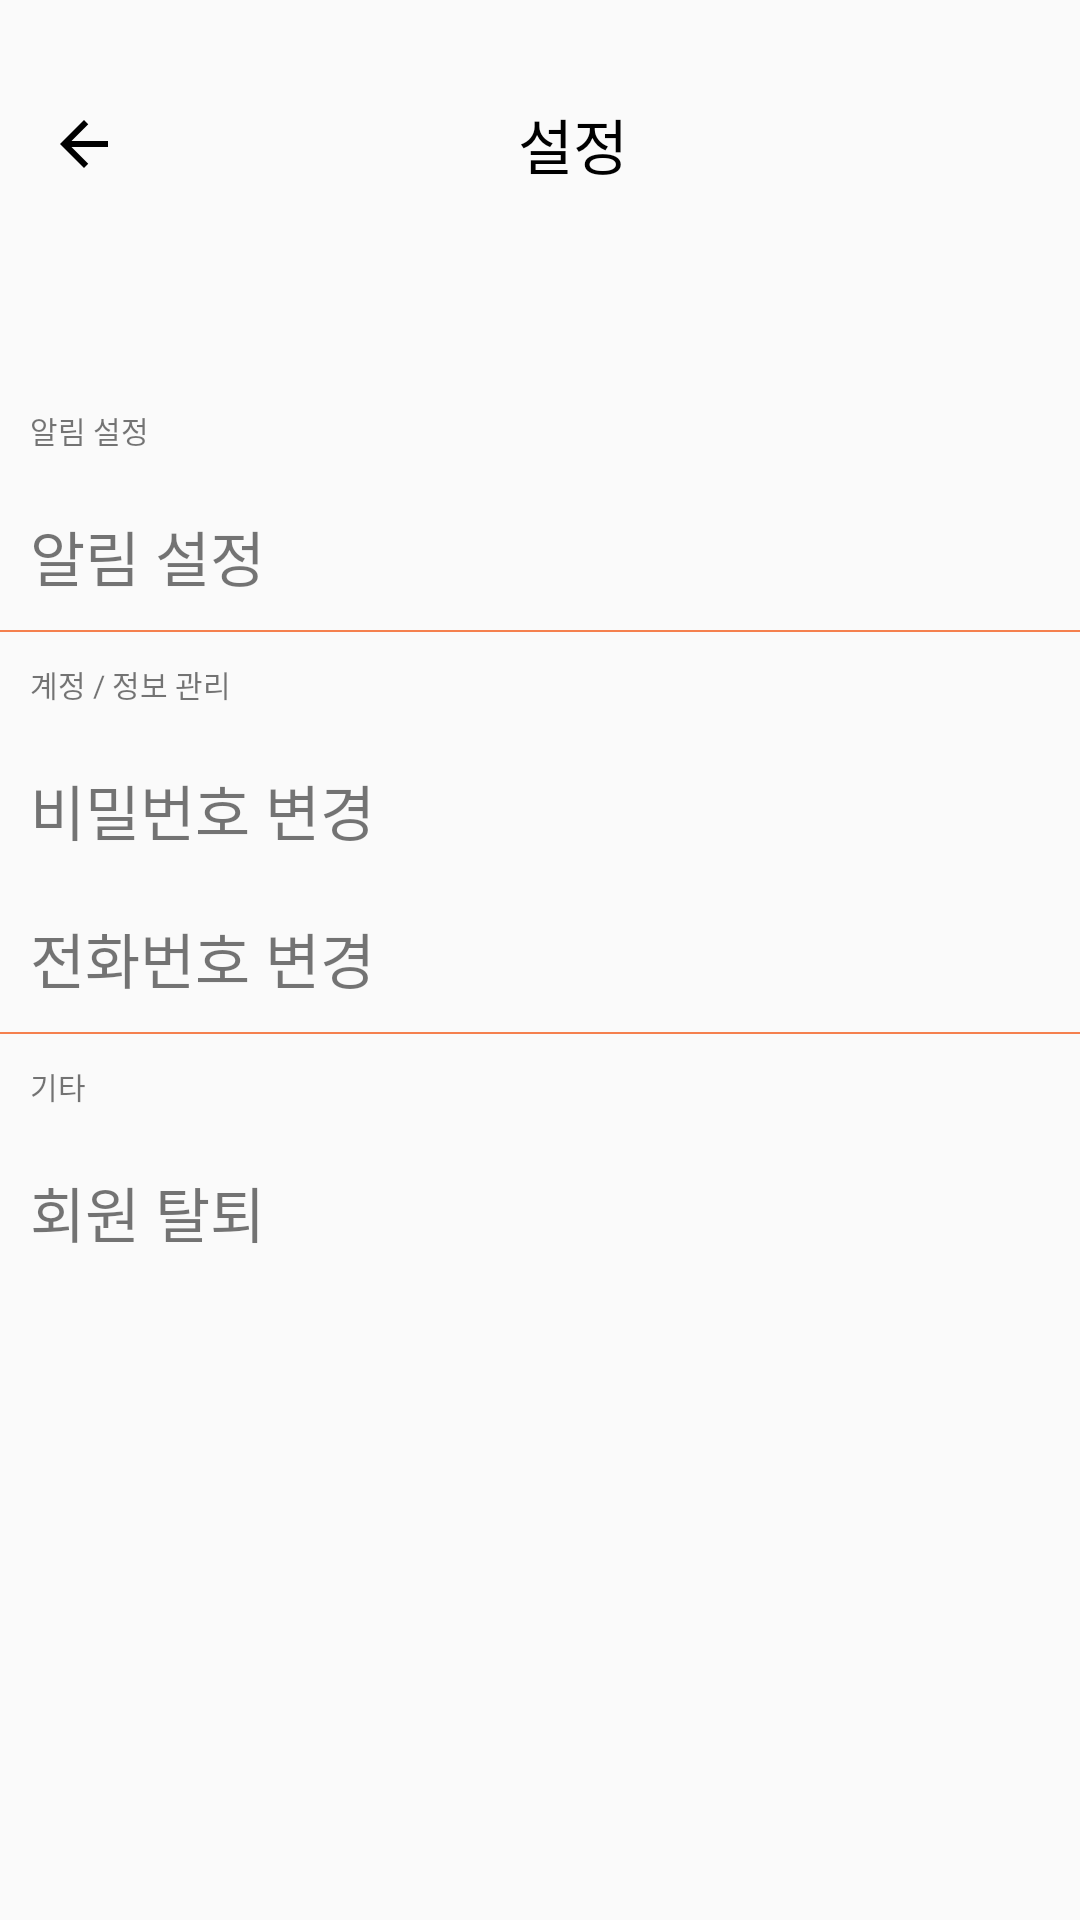

Named icons in this screenshot (1080x1920) and their centers, [x,y]:
back arrow: [84,144]
